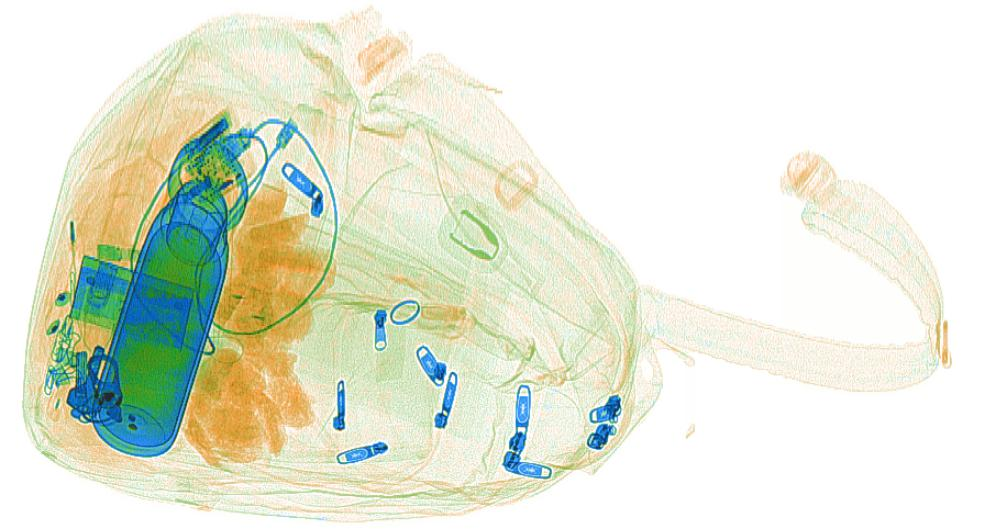USBFlashDisk: (85, 259, 118, 317), (95, 243, 152, 266)
